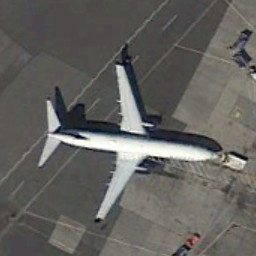Airplane: (25, 54, 229, 232)
